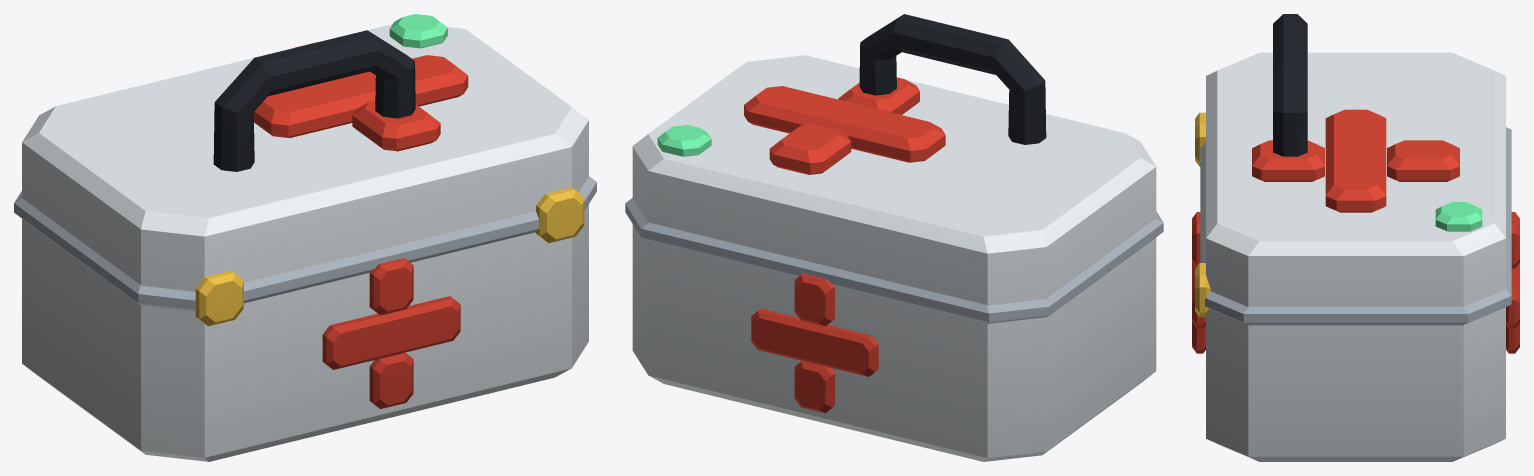
File: RepairKit.fbx
3 views of the same model, side by side, from view 1: azimuth 30°, elevation 25°; view 2: azimuth 150°, elevation 25°; view 3: azimuth 270°, elevation 25° (orthographic). The views are drawn at different scales.
Visible parts, largest first — view 1: Case, Cross, Handle, Seam, Latches, StatusGlow; view 2: Case, Cross, Seam, Handle, StatusGlow; view 3: Case, Cross, Seam, Handle, StatusGlow, Latches.
Part boxes in pixels (box(x1,y1,x2,y2)): Case: box(22, 24, 588, 461); Cross: box(253, 42, 468, 408); Handle: box(213, 30, 415, 171); Seam: box(14, 176, 596, 311); Latches: box(195, 187, 584, 326); StatusGlow: box(389, 14, 447, 48); Case: box(632, 55, 1156, 461); Cross: box(744, 77, 945, 412); Seam: box(625, 198, 1163, 323); Handle: box(859, 14, 1046, 144); StatusGlow: box(657, 125, 711, 156); Case: box(1206, 52, 1505, 461); Cross: box(1192, 109, 1519, 353); Seam: box(1200, 127, 1511, 325); Handle: box(1273, 14, 1307, 156); StatusGlow: box(1435, 202, 1482, 231); Latches: box(1195, 112, 1210, 317).
Size of the model in its own units: 0.512 by 0.3732 by 0.35.
2 materials, 2 textured.
